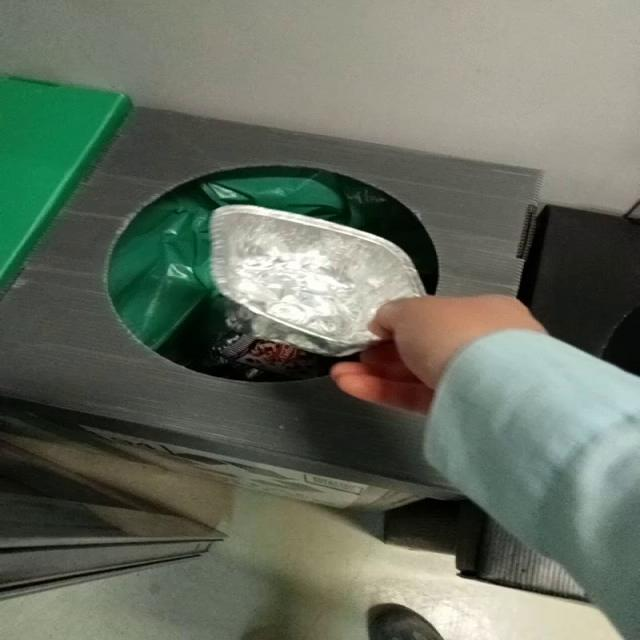bin: (3, 108, 541, 504)
metal: (209, 205, 425, 356)
